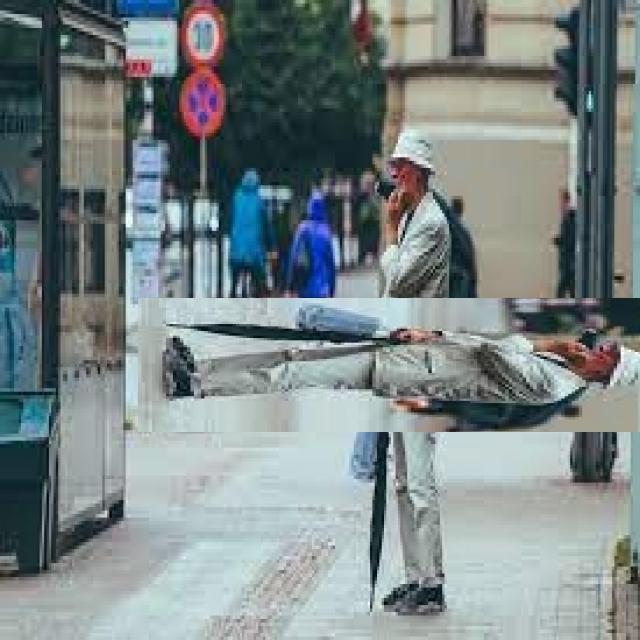NotFall: (147, 283, 640, 464)
